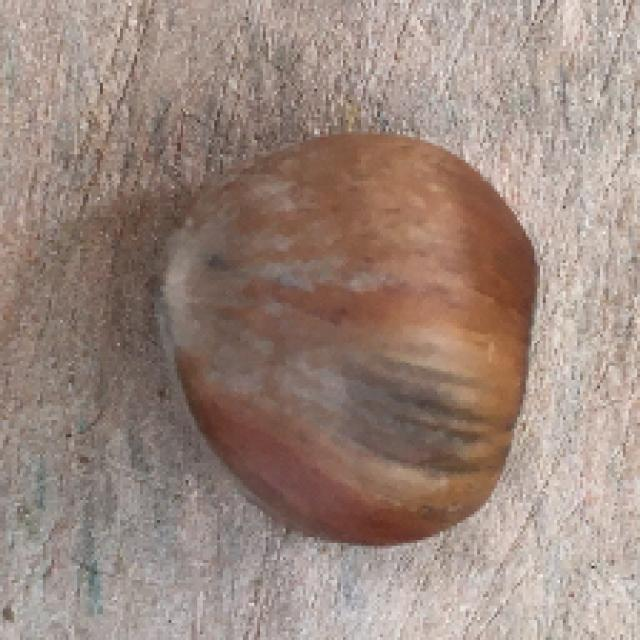qualityHazelnut: (154, 124, 537, 548)
